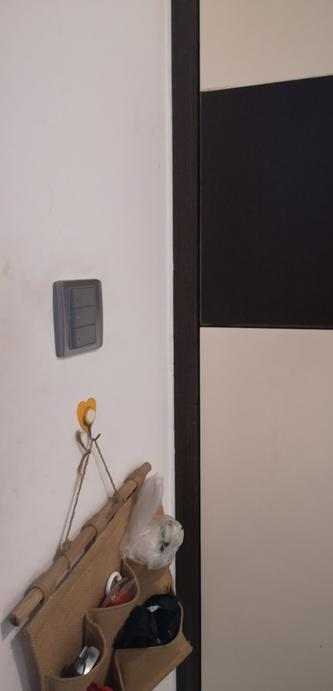switch: (73, 331, 107, 349), (66, 309, 108, 322), (67, 285, 103, 300)
